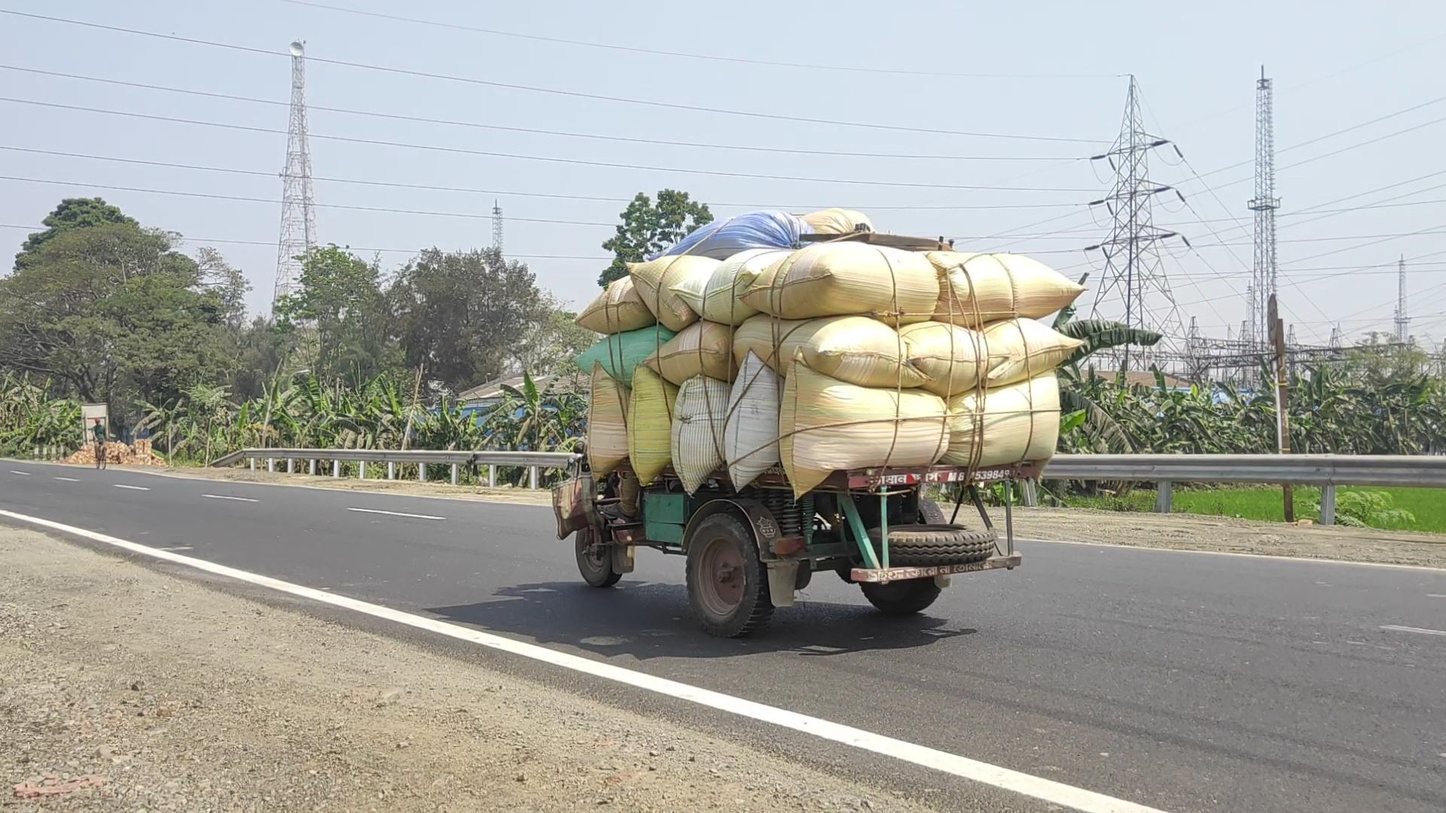bike: (91, 418, 108, 469)
